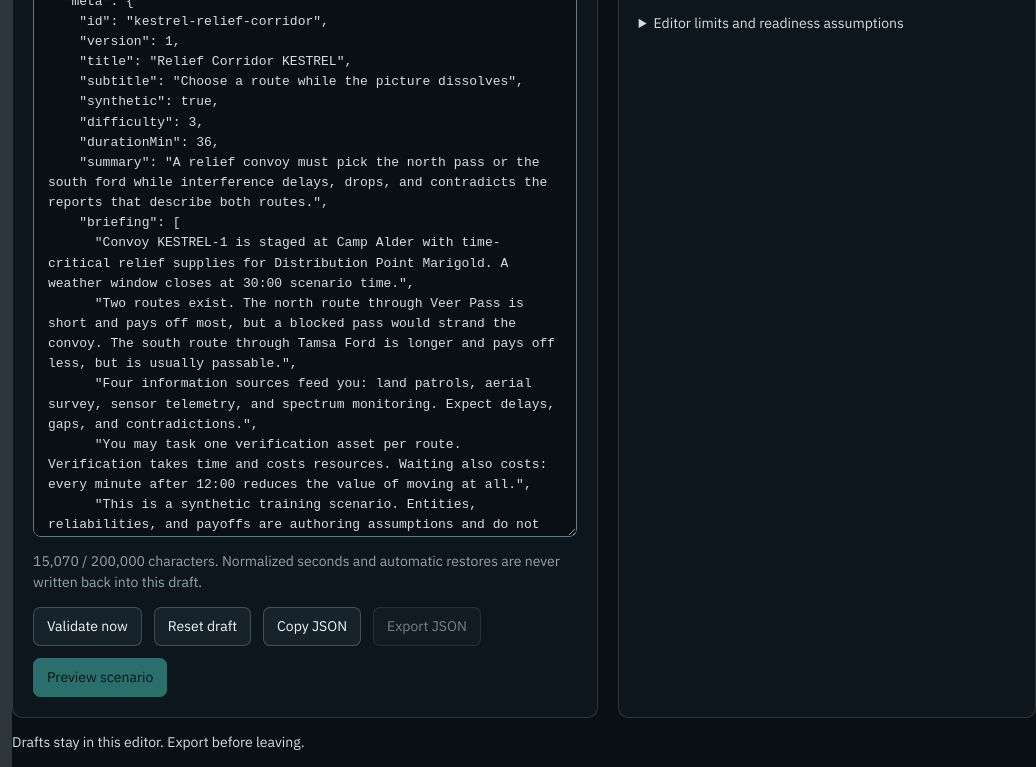
Test case: scenario authoring editor › reports clipboard failures and exports exact authoring JSON with object URL cleanup
(page scrolled)
Click the button "Validate now" at x=87, y=626, box x1=33 y1=607 x2=142 y2=646
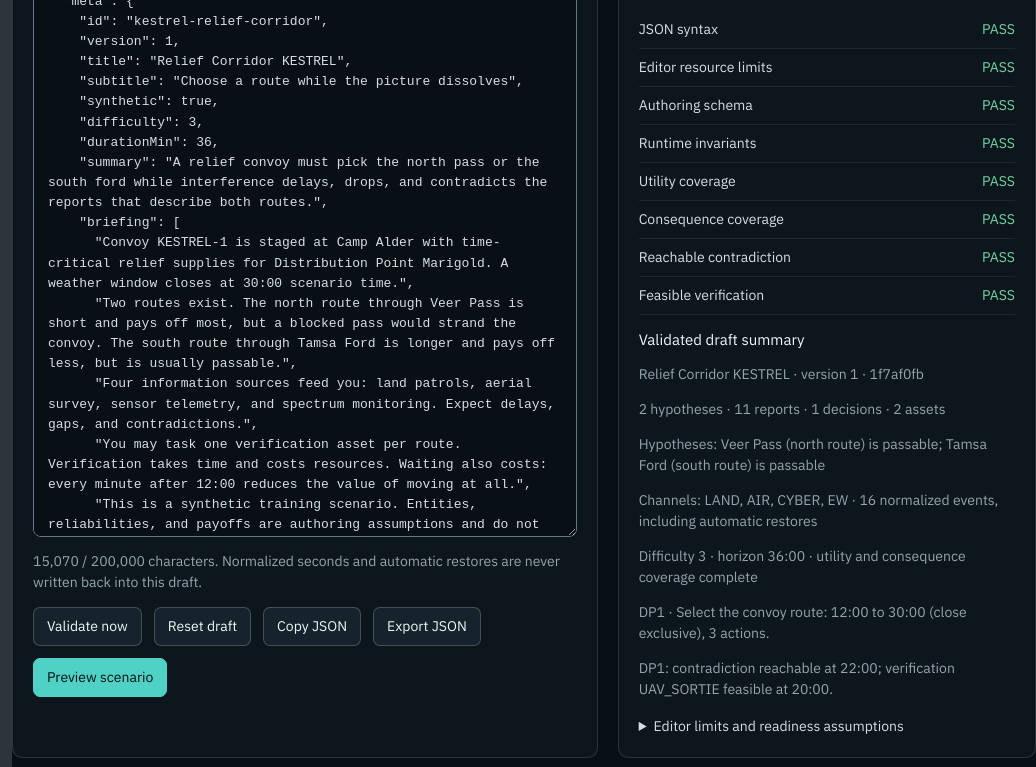
Click the button "Copy JSON" at x=312, y=626, box x1=263 y1=607 x2=361 y2=646
(page scrolled)
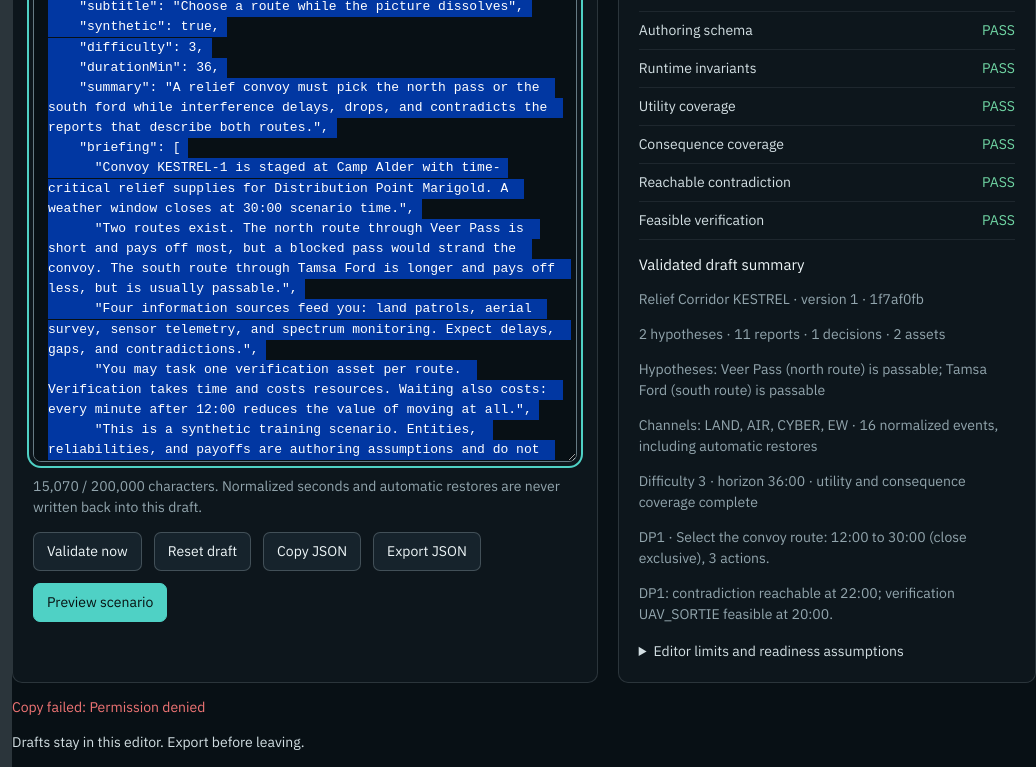
Expected: the message "Copy failed: Permission denied" is shown, x1=12 y1=698 x2=205 y2=716
Click the button "Export JSON" at x=427, y=551, box x1=373 y1=532 x2=481 y2=571
Wait 1 ms
(page scrolled)
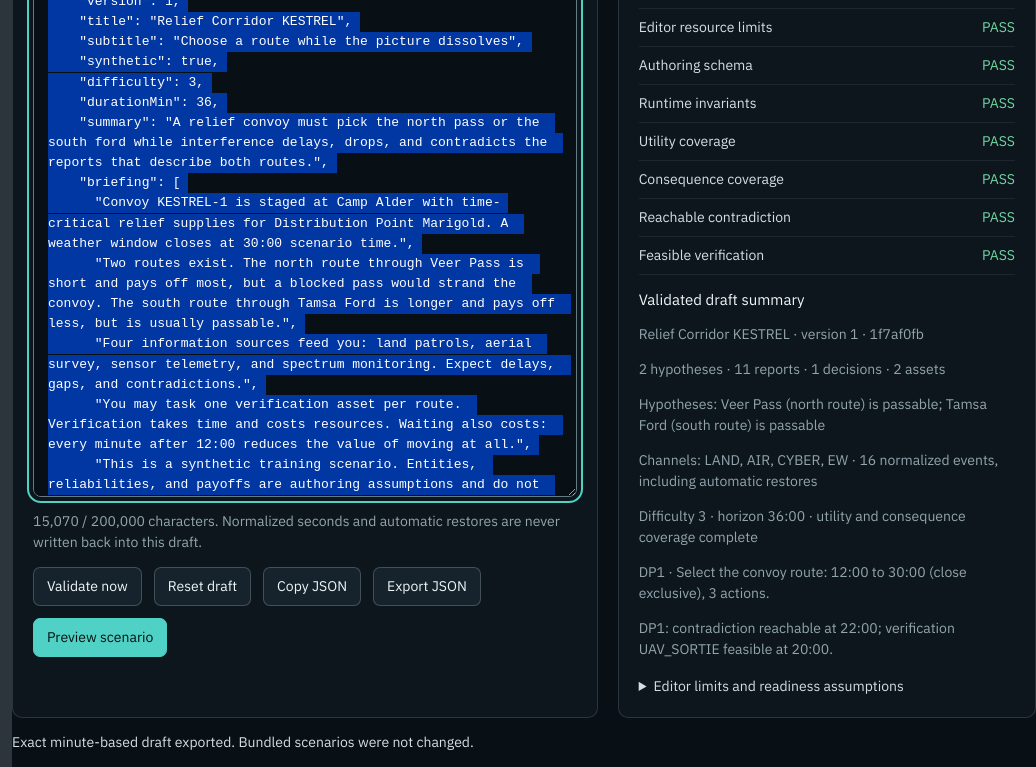
Expected: the message "Copy failed: Permission denied" is gone
